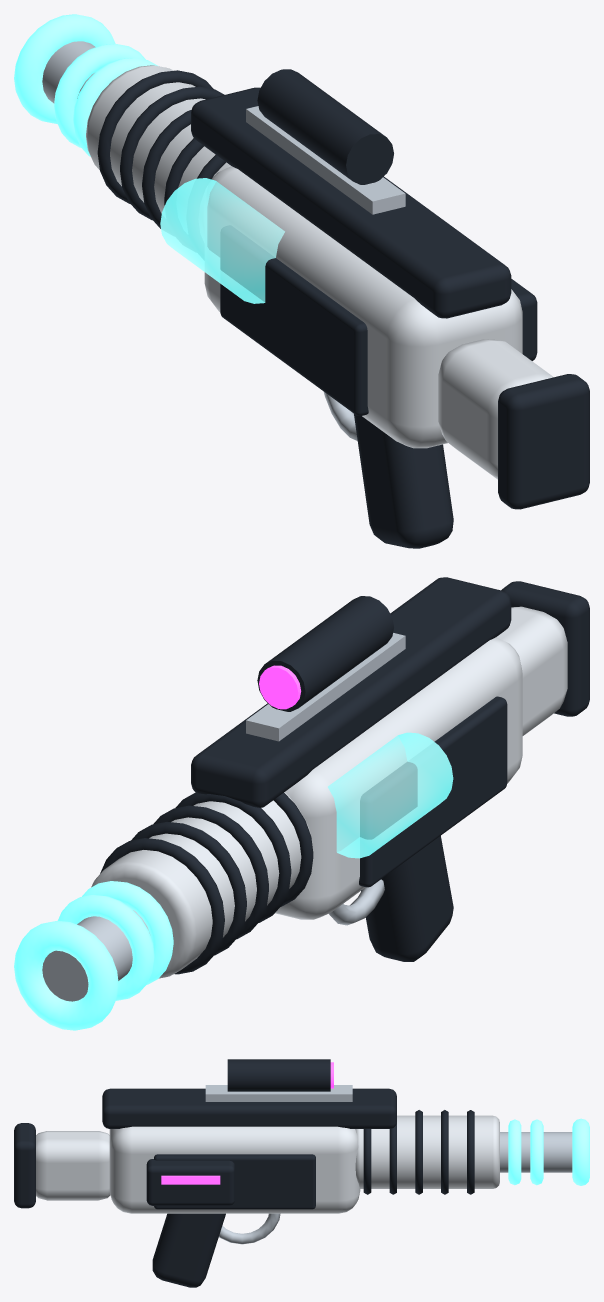
The model's file is blaster.glb.
3 views of the same model, one above another, from view 1: azimuth 30°, elevation 25°; view 2: azimuth 150°, elevation 25°; view 3: azimuth 270°, elevation 25° (orthographic). The views are drawn at different scales.
Parts seen in each view (by area): view 1: Blaster, Tank, Coils, Nozzle; view 2: Blaster, Tank, Nozzle, Coils; view 3: Blaster, Coils, Nozzle.
Part boxes in pixels (<box>): Blaster: <box>42,41,589,548</box>; Tank: <box>160,178,284,303</box>; Coils: <box>54,44,158,156</box>; Nozzle: <box>14,14,115,123</box>; Blaster: <box>42,577,589,1001</box>; Tank: <box>328,732,453,858</box>; Nozzle: <box>14,920,118,1030</box>; Coils: <box>58,881,173,1000</box>; Blaster: <box>14,1059,572,1287</box>; Coils: <box>508,1119,543,1185</box>; Nozzle: <box>572,1118,589,1185</box>.
Size of the model in its own units: 0.197 by 0.3346 by 0.782.
